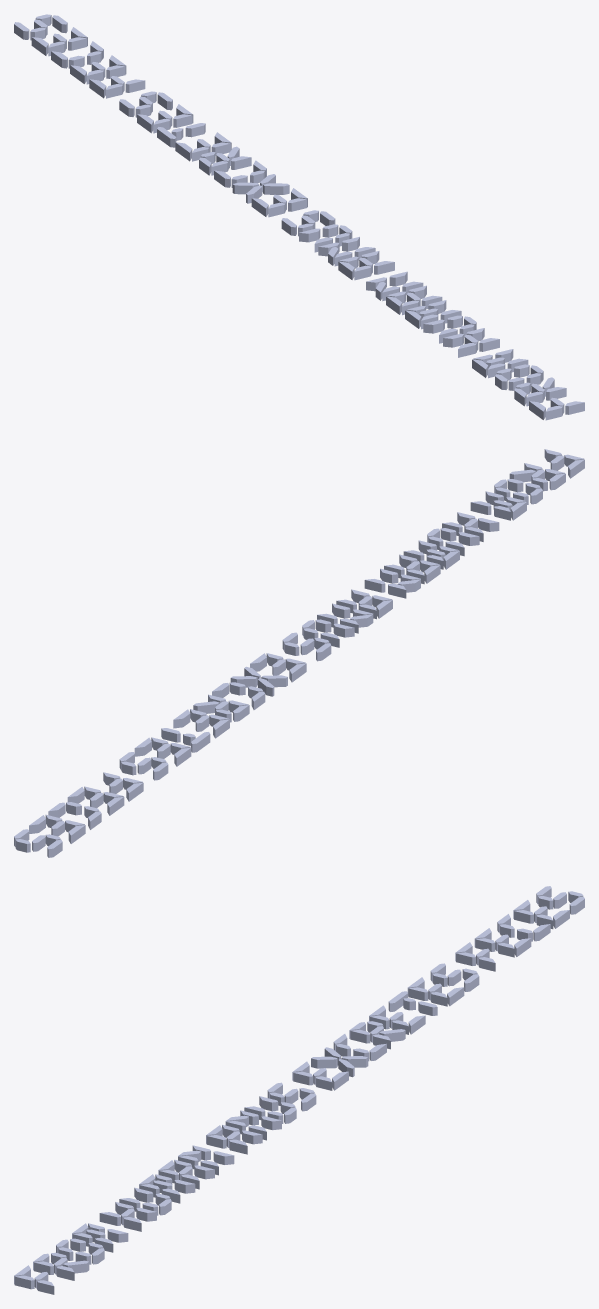
The model's file is FROM HUMAN ANUS EXCRETES FECES.FBX.
3 renders of one model, top to bottom at view 1: azimuth 30°, elevation 25°; view 2: azimuth 150°, elevation 25°; view 3: azimuth 330°, elevation 25°, orthographic.
Bounding box in the file's own units: 100 × 19.69 × 2188.
